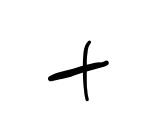plus: (48, 40, 107, 103)
